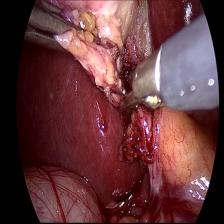Grasper: (22, 2, 90, 60)
Scissors: (112, 46, 172, 116)
